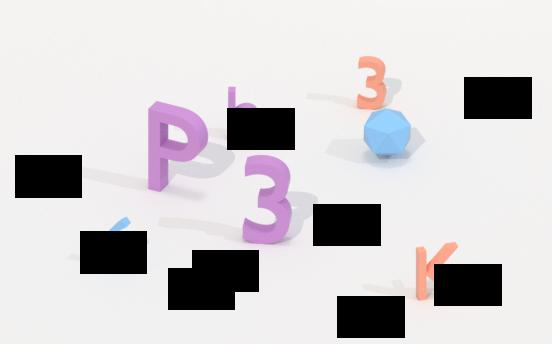3: (238, 153, 295, 246), (355, 52, 386, 114)
6: (99, 211, 140, 272)
dagiac: (361, 106, 414, 163)
h: (226, 86, 264, 144)
k: (409, 239, 471, 304)
p: (147, 102, 210, 188)
